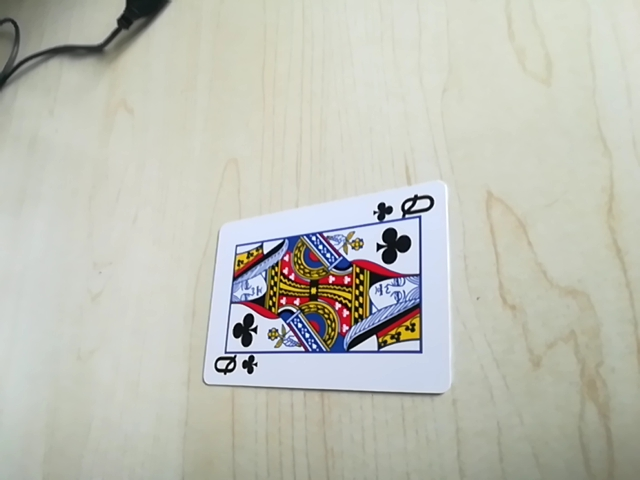mh q: (374, 191, 440, 224), (204, 349, 260, 383)
